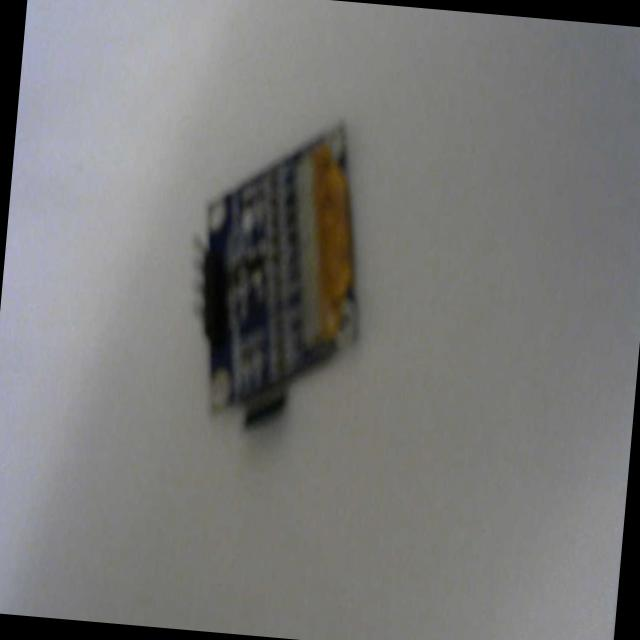oled: (176, 110, 380, 440)
